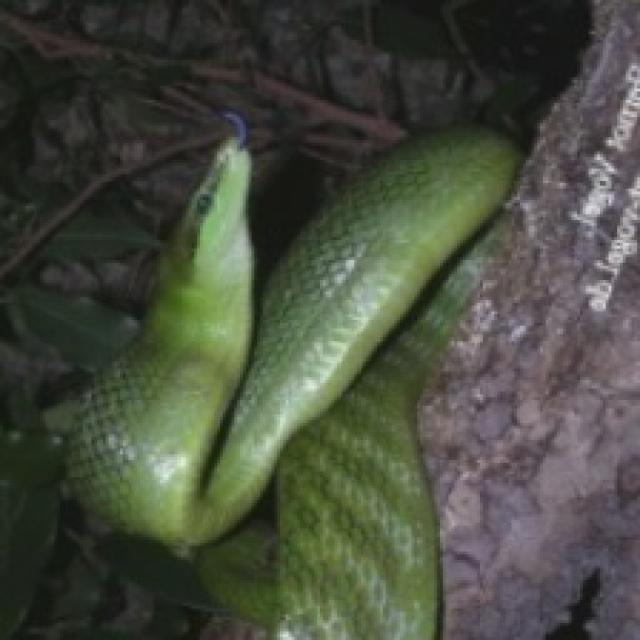red-tailed green ratsnake: (69, 129, 520, 637), (69, 137, 251, 540)
